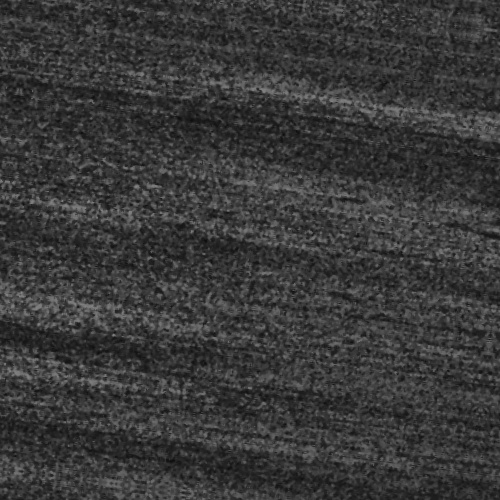object: (478, 194, 500, 199)
shadow: (464, 194, 494, 199)
